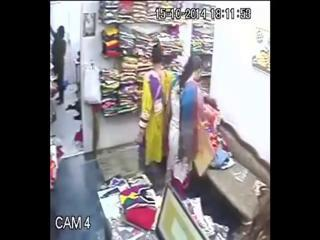shoplifting: (136, 37, 187, 193), (217, 120, 270, 240)
